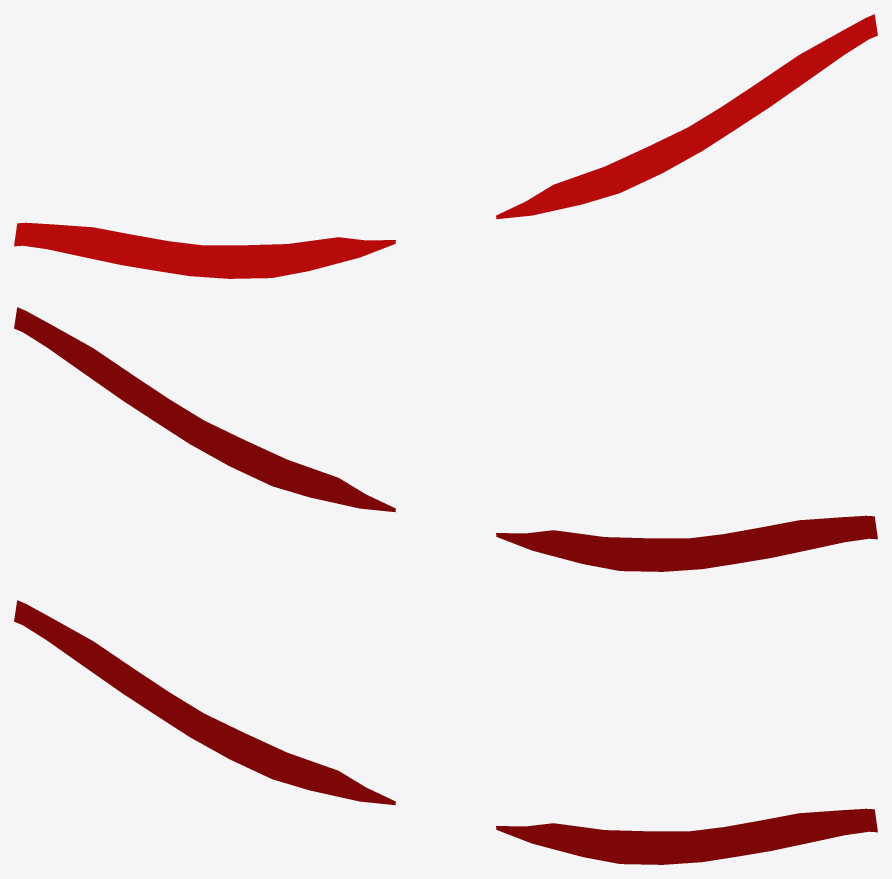
File: frame131.fbx
The picture shows the model from 3 angles, top to bottom: view 1: azimuth 30°, elevation 25°; view 2: azimuth 150°, elevation 25°; view 3: azimuth 330°, elevation 25°; orthographic projection.
Visible parts, largest first — view 1: MaterialLayer; view 2: MaterialLayer; view 3: MaterialLayer.
Part boxes in pixels (x1,y1,x2,y2): MaterialLayer: (14, 14, 877, 278); MaterialLayer: (14, 307, 877, 571); MaterialLayer: (14, 600, 877, 864).
Size of the model in its own units: 1433 by 189 by 0.
